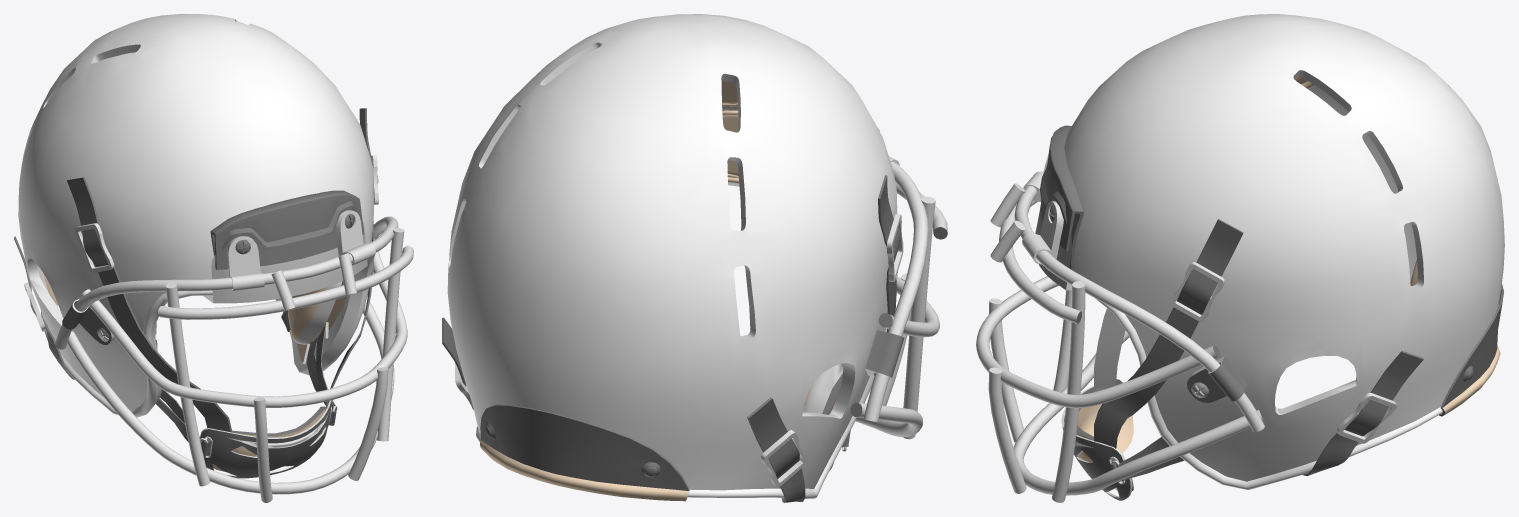
File: helmet_VERSION_B_test.glb
3 renders of one model, left to right at view 1: azimuth 30°, elevation 25°; view 2: azimuth 150°, elevation 25°; view 3: azimuth 270°, elevation 25°, orthographic. The views are drawn at different scales.
Parts seen in each view (by area): view 1: Shell_Combined, Facemask_Combined, Chinstrap_Combined, Hardware_Combined, Padding_Combined; view 2: Shell_Combined, Chinstrap_Combined, Facemask_Combined, Padding_Combined; view 3: Shell_Combined, Facemask_Combined, Chinstrap_Combined, Padding_Combined, Hardware_Combined.
Boxes of the visible parts, box(x1,y1,x2,y2) form: Shell_Combined: box(18, 14, 374, 417); Facemask_Combined: box(22, 19, 413, 502); Chinstrap_Combined: box(14, 108, 378, 478); Hardware_Combined: box(100, 222, 367, 364); Padding_Combined: box(43, 52, 345, 472); Shell_Combined: box(447, 14, 897, 498); Chinstrap_Combined: box(442, 129, 947, 502); Facemask_Combined: box(449, 42, 947, 487); Padding_Combined: box(480, 81, 839, 501); Shell_Combined: box(1064, 14, 1504, 489); Facemask_Combined: box(976, 15, 1423, 502); Chinstrap_Combined: box(1040, 125, 1503, 500); Padding_Combined: box(1076, 76, 1500, 490); Hardware_Combined: box(1035, 208, 1209, 396).
Bounding box in the file's own units: 3.64 × 4.39 × 4.72.
